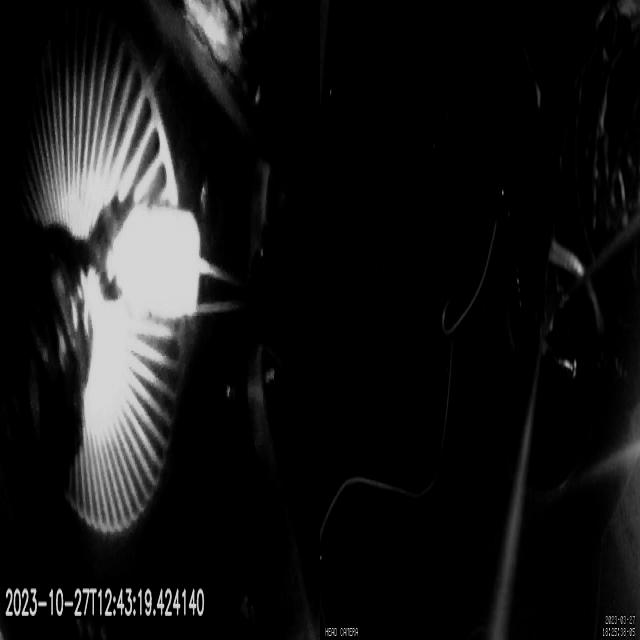head: (123, 208, 200, 320)
